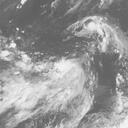cyclone: (45, 57, 86, 105)
